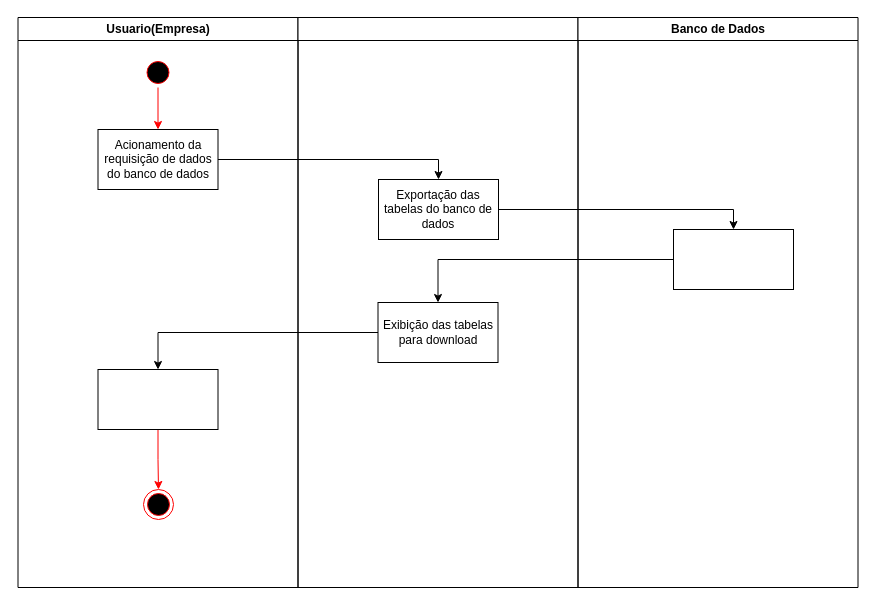
The diagram is 875 pixels wide and 605 high, and some of its shapes have lost their labels. The box of each missing label's shape, as (x1, y1, x2, y2) in pixels:
Criação das tableas com as informações coletadas: (672, 228, 794, 290)
Download das tabelas: (97, 368, 218, 430)
Sistema: (297, 16, 578, 588)
